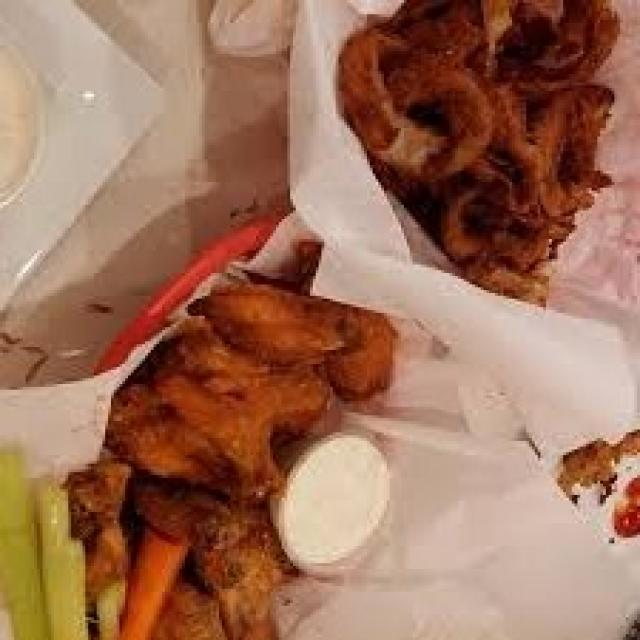Chicken Wings: (62, 219, 412, 637)
Onion Rings: (341, 0, 615, 304)
